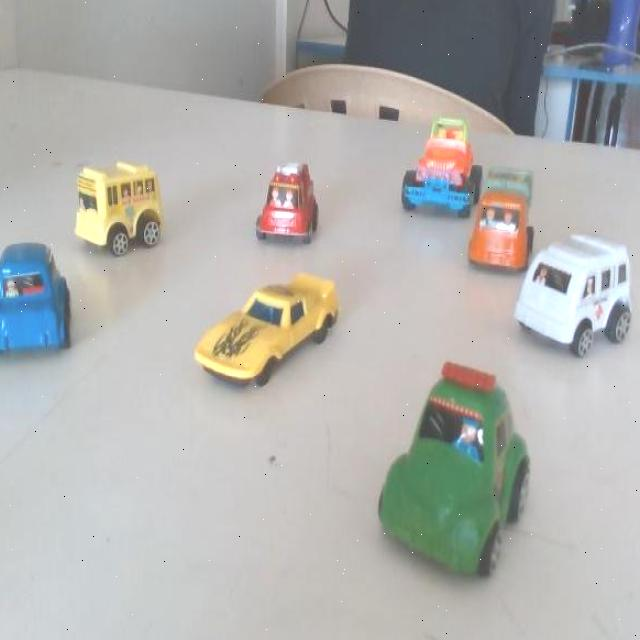car: (387, 369, 544, 556), (190, 258, 349, 402), (514, 217, 640, 373), (0, 233, 78, 376), (80, 157, 174, 265), (391, 108, 476, 216), (468, 154, 539, 278), (256, 148, 332, 258)
